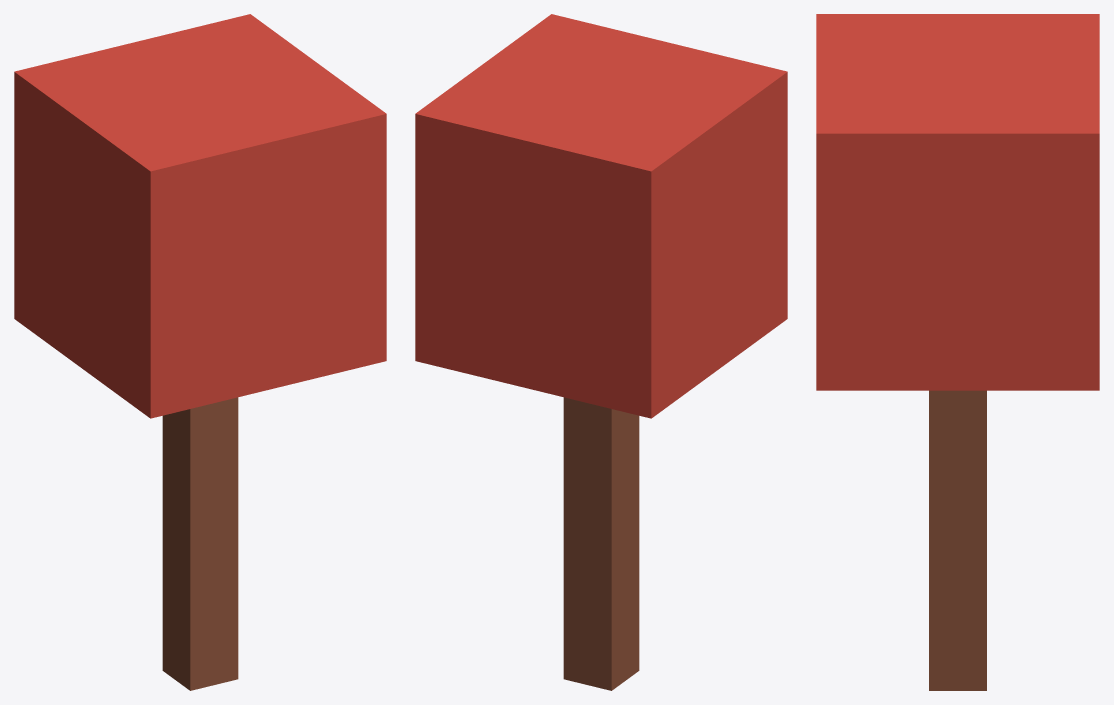
Rendered from Tree_47_summer_red_pal.fbx.
The picture shows the model from 3 angles, left to right: view 1: azimuth 30°, elevation 25°; view 2: azimuth 150°, elevation 25°; view 3: azimuth 270°, elevation 25°; orthographic projection. The views are drawn at different scales.
Parts seen in each view (by area): view 1: Tree_47_summer_red_pal; view 2: Tree_47_summer_red_pal; view 3: Tree_47_summer_red_pal.
Boxes of the visible parts, x1,y1,x2,y2 form: Tree_47_summer_red_pal: [14, 14, 386, 690]; Tree_47_summer_red_pal: [415, 14, 787, 690]; Tree_47_summer_red_pal: [816, 14, 1099, 690].
Bounding box in the file's own units: 72.7 × 171 × 72.7.
